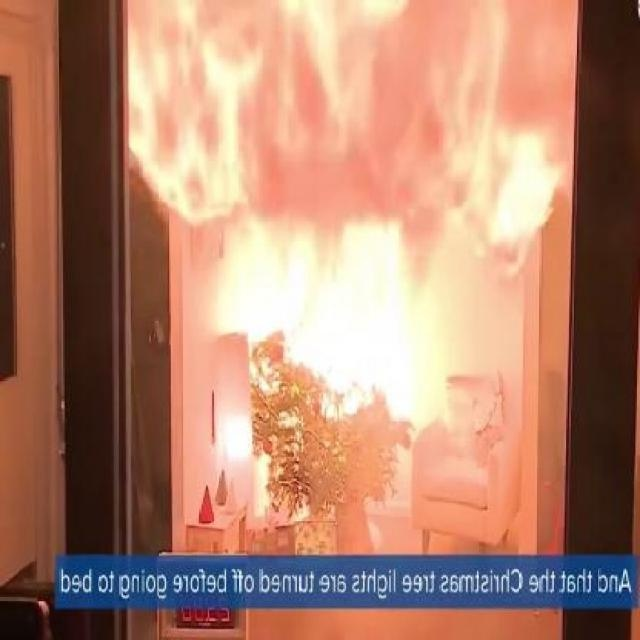fire: (123, 0, 572, 418)
